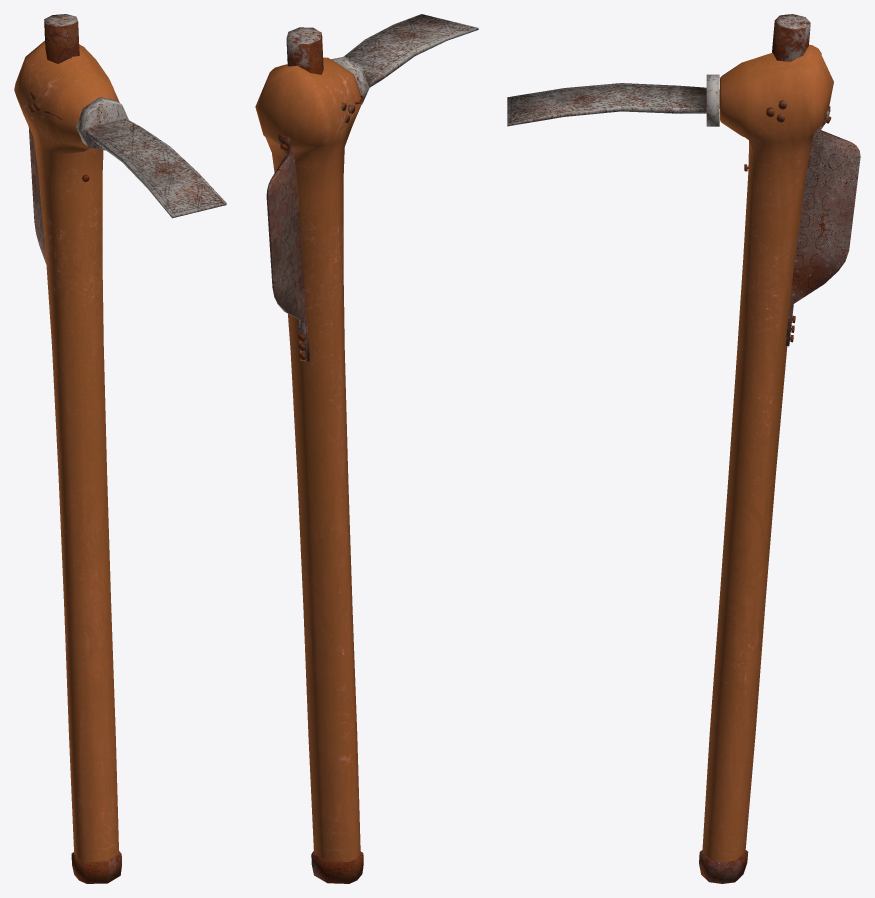
The model's file is Bâton_dance_guèrrière_3.fbx.
The picture shows the model from 3 angles, left to right: view 1: azimuth 30°, elevation 25°; view 2: azimuth 150°, elevation 25°; view 3: azimuth 270°, elevation 25°; orthographic projection. The views are drawn at different scales.
Parts seen in each view (by area): view 1: Bâton, fer, Cylinder.001, Bâton.002, Fer_dos; view 2: Bâton, Fer_dos, fer, Cylinder.001, Bâton.002; view 3: Bâton, Fer_dos, fer, Cylinder.001, Bâton.002.
Boxes of the visible parts, x1,y1,x2,y2 form: Bâton: (14, 41, 119, 862); fer: (76, 97, 226, 218); Cylinder.001: (44, 14, 79, 63); Bâton.002: (71, 851, 121, 883); Fer_dos: (28, 127, 46, 263); Bâton: (255, 57, 362, 862); Fer_dos: (266, 134, 309, 361); fer: (331, 14, 478, 104); Cylinder.001: (286, 27, 323, 74); Bâton.002: (311, 851, 363, 883); Bâton: (702, 44, 833, 861); Fer_dos: (785, 106, 860, 346); fer: (507, 74, 719, 126); Cylinder.001: (772, 14, 810, 61); Bâton.002: (699, 850, 748, 883).
Bounding box in the file's own units: 91.91 × 963 × 360.
Materials: 2 (2 with a texture image).
